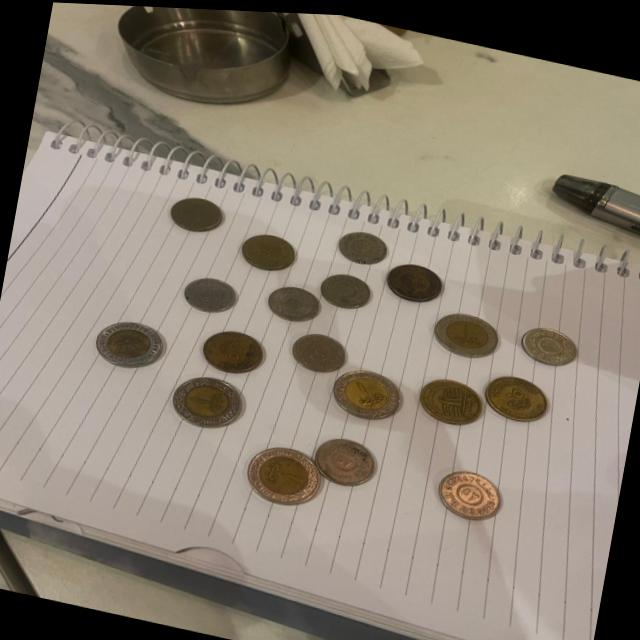Half Pound: (476, 359, 556, 423), (409, 363, 487, 427), (190, 316, 268, 379), (235, 220, 302, 276), (159, 185, 231, 237), (382, 251, 446, 304)
One Pound: (159, 359, 251, 441), (236, 432, 328, 512), (320, 351, 408, 425), (424, 296, 508, 361), (88, 311, 167, 374)
quarter pound: (431, 455, 513, 519), (307, 424, 379, 488), (284, 319, 356, 376), (514, 312, 584, 370), (177, 265, 243, 317), (262, 275, 325, 324), (334, 217, 394, 268), (315, 261, 375, 309)
